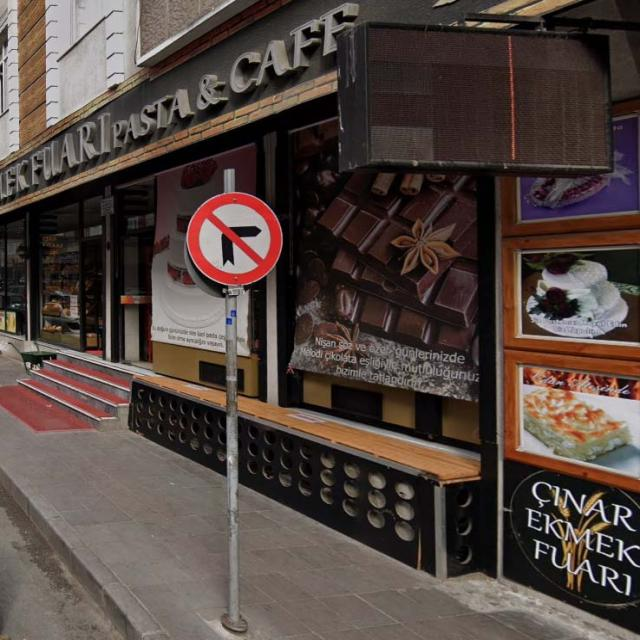sagadonulmez: (186, 192, 282, 286)
